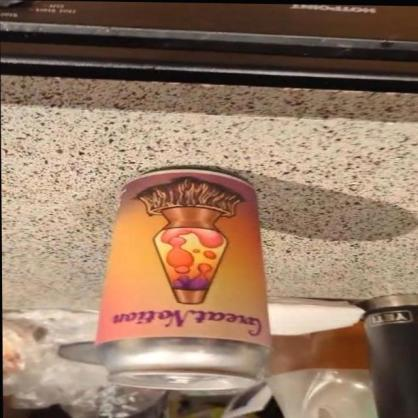can: (94, 163, 268, 393)
